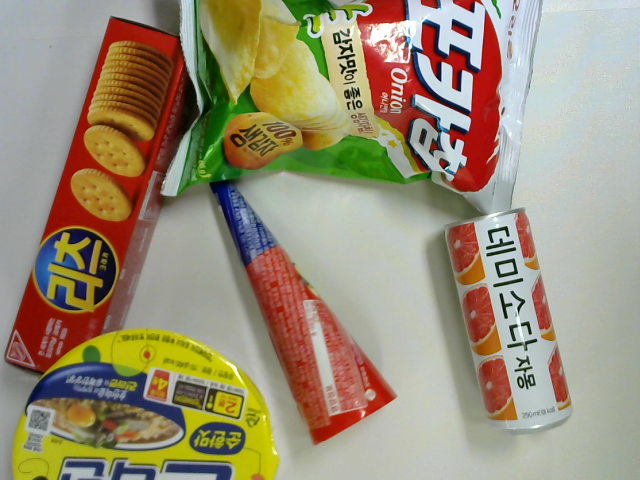Demisoda_Grapefruit_Can_250ml: (438, 204, 578, 441)
Jinlamyeon_Mild_Taste_Large_Cup: (8, 328, 282, 480)
Pocachip_Onion: (152, 1, 549, 225)
Ritz_Cracker: (2, 11, 204, 388)
World_Cone_Banila: (188, 144, 405, 452)
